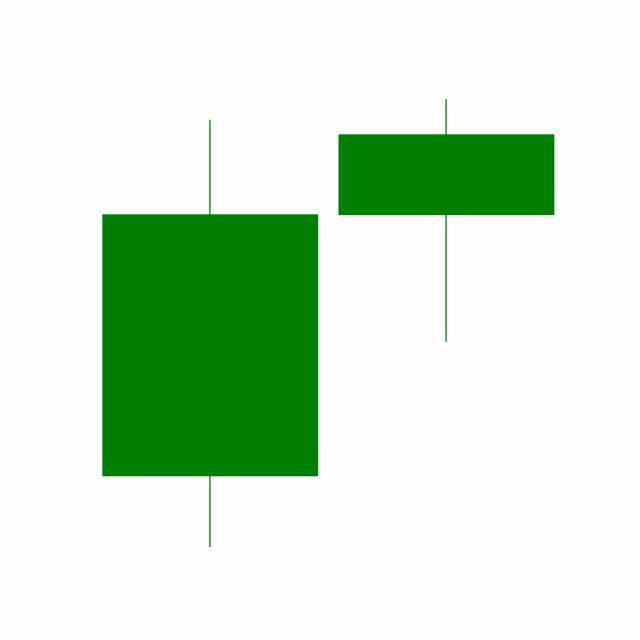Hanging Man: (327, 96, 565, 344)
